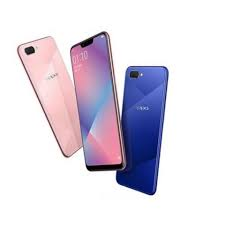oppo: (111, 63, 168, 197)
